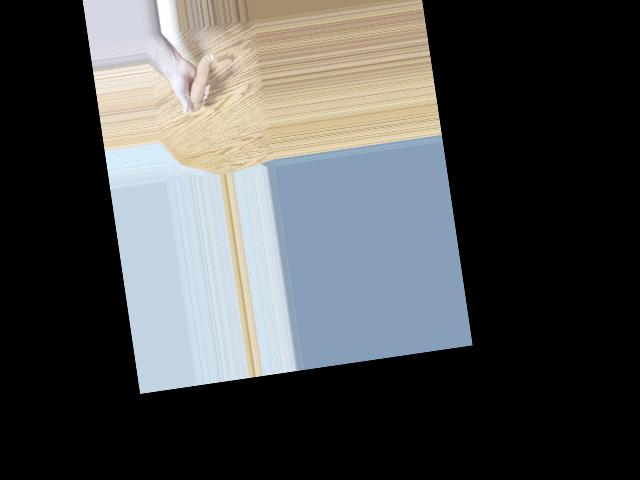sweet_potato: (183, 52, 220, 114)
